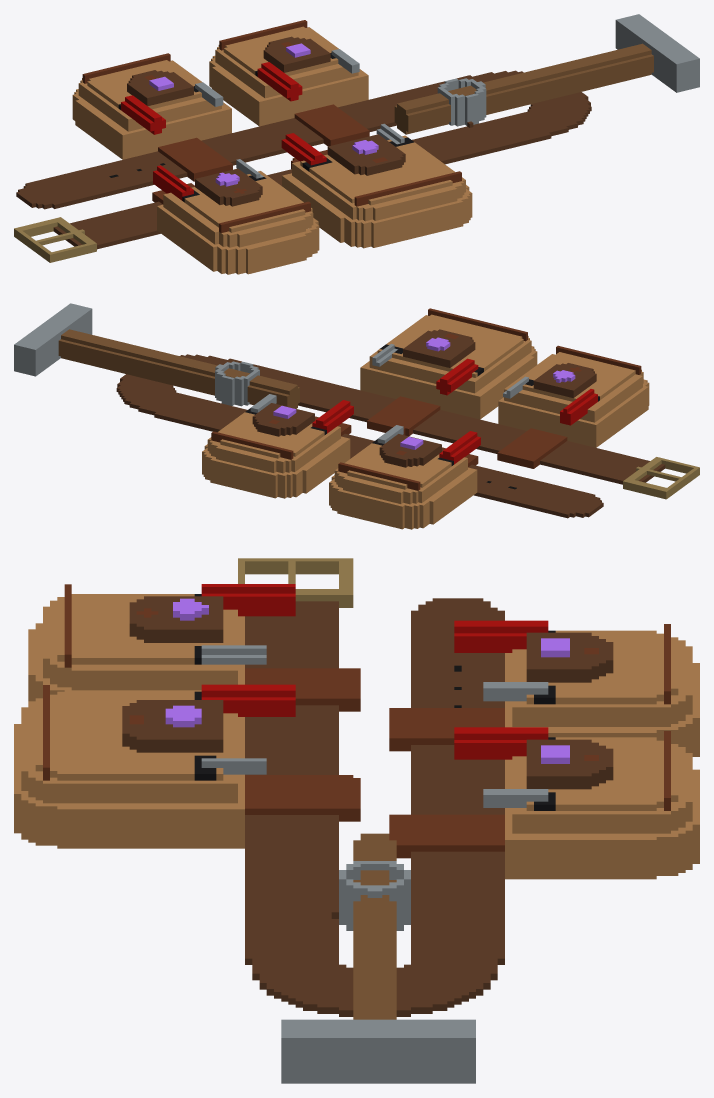
Rendered from mbelt_pockets_greater.glb.
3 views of the same model, one above another, from view 1: azimuth 30°, elevation 25°; view 2: azimuth 150°, elevation 25°; view 3: azimuth 270°, elevation 25° (orthographic). The views are drawn at different scales.
Visible parts, largest first — view 1: mbelt_pockets_greater:compound; view 2: mbelt_pockets_greater:compound; view 3: mbelt_pockets_greater:compound.
Part boxes in pixels (<box>): mbelt_pockets_greater:compound: <box>14,14,699,274</box>; mbelt_pockets_greater:compound: <box>14,303,699,529</box>; mbelt_pockets_greater:compound: <box>14,558,699,1083</box>.
Size of the model in its own units: 0.68 by 0.056 by 0.38.
